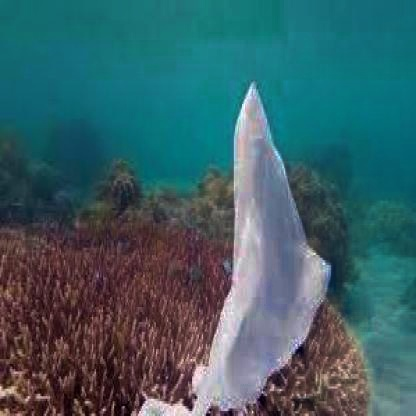pbag: (137, 79, 333, 416)
